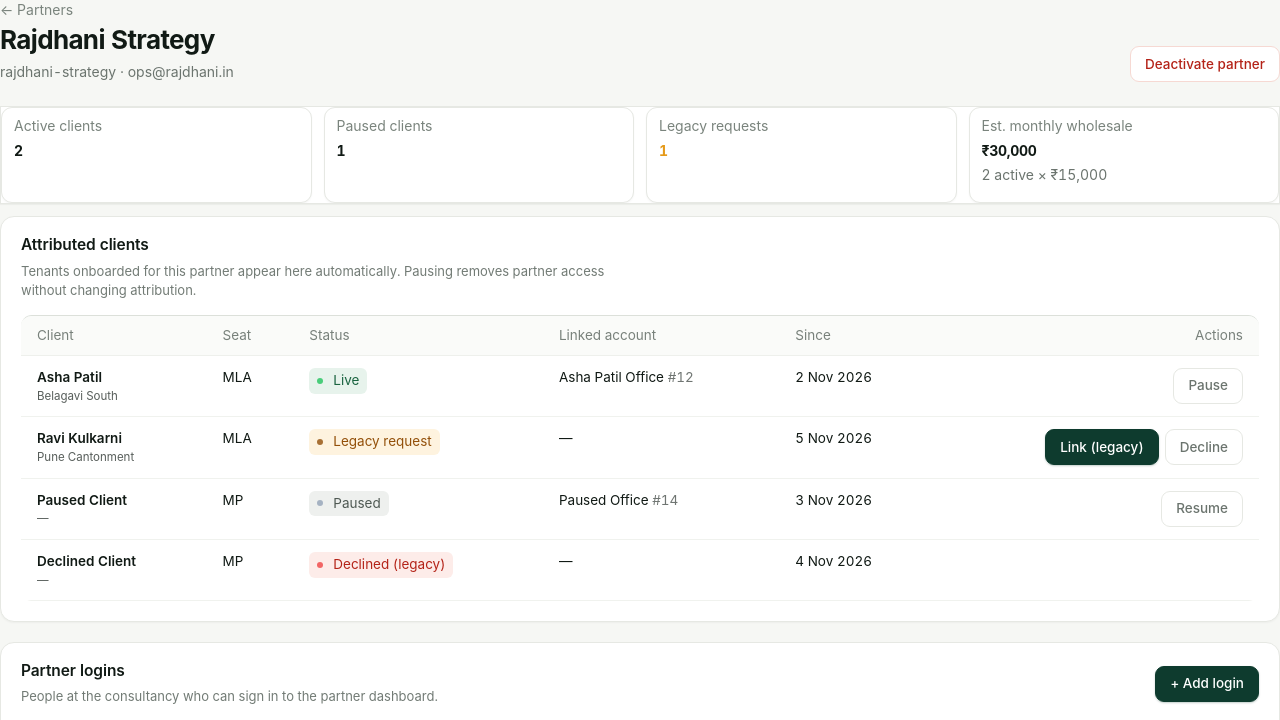
Test: Admin partner detail › links a legacy request to an unlinked account
The image size is (1280, 720).
Click the button "Link (legacy)" at [1102, 447], box [1045,429,1159,465]
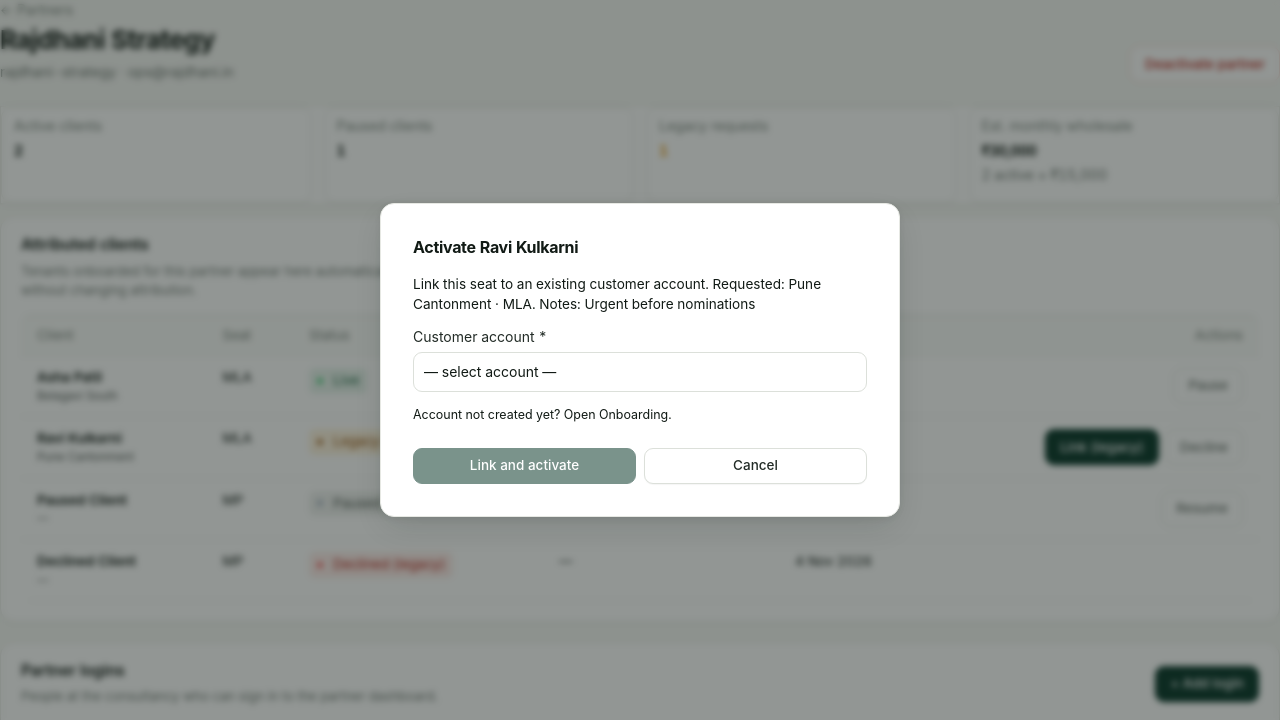
Now the button "Link and activate" is disabled, box [413,448,636,484]
Select "Ravi Office · Pune · aspirant #21" in the dropdown labelled "Customer account *" at [640, 372], box [413,352,867,392]
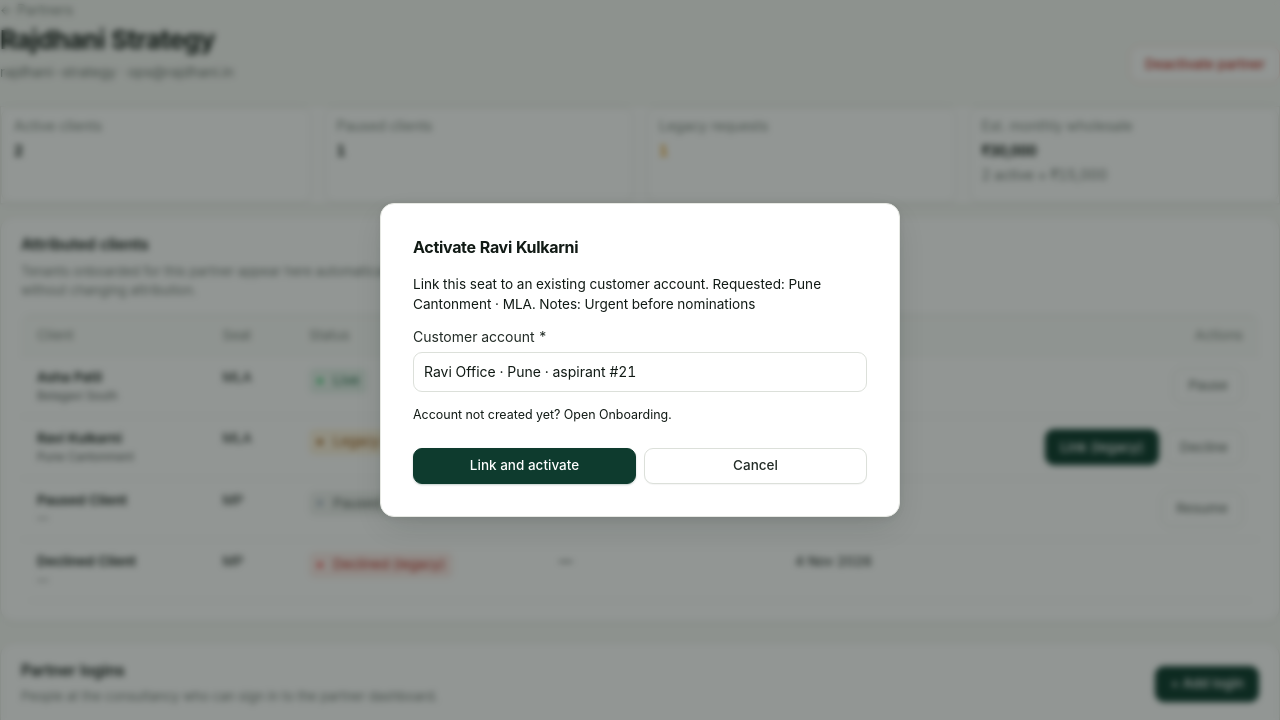
Click the button "Link and activate" at [524, 466], box [413,448,636,484]
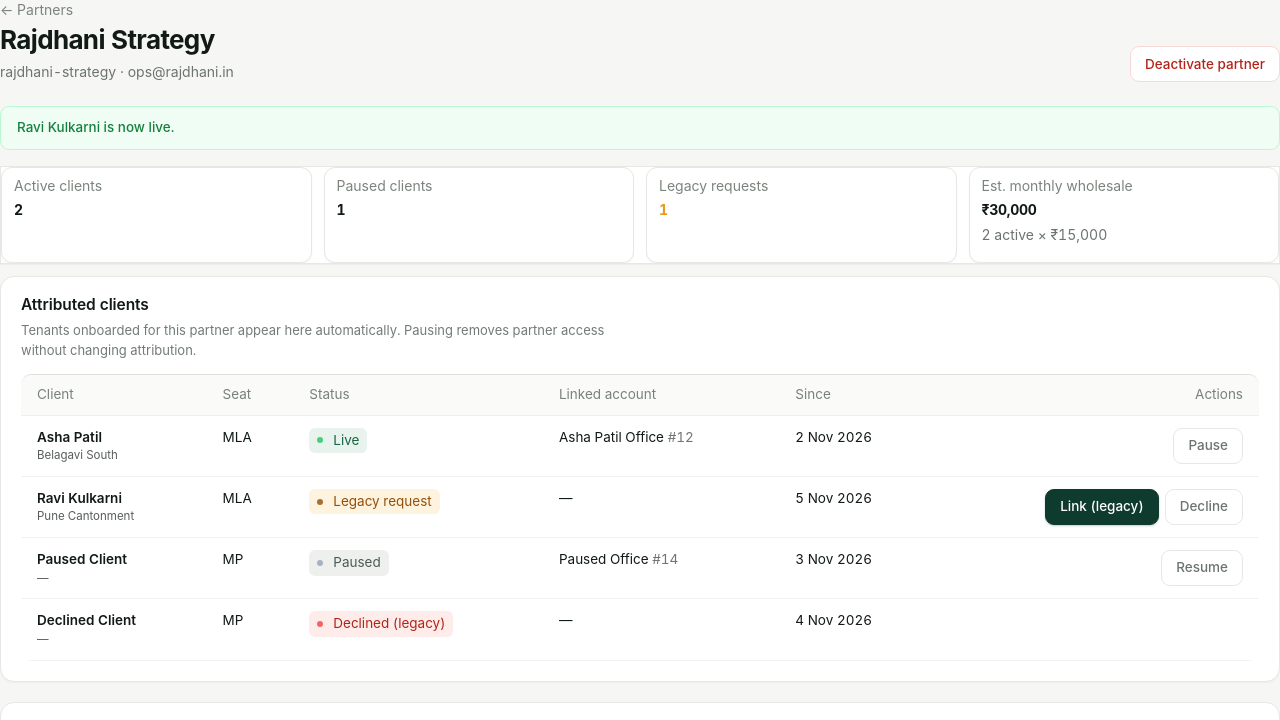
Now the text "Ravi Kulkarni is now live." is shown, box [0,106,1279,150]
